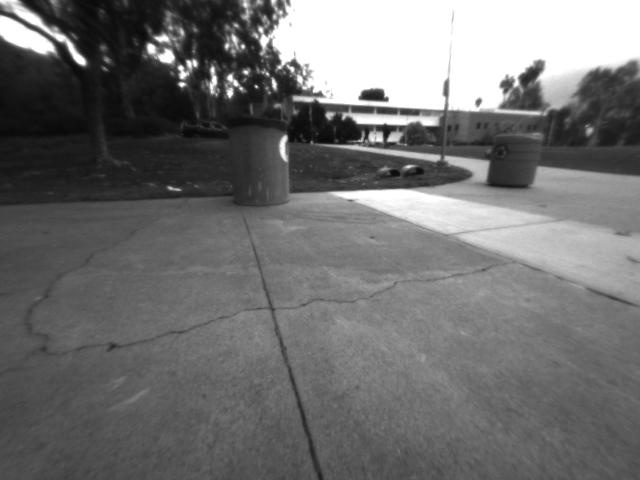trashcan: (217, 107, 298, 213), (484, 123, 548, 198)
